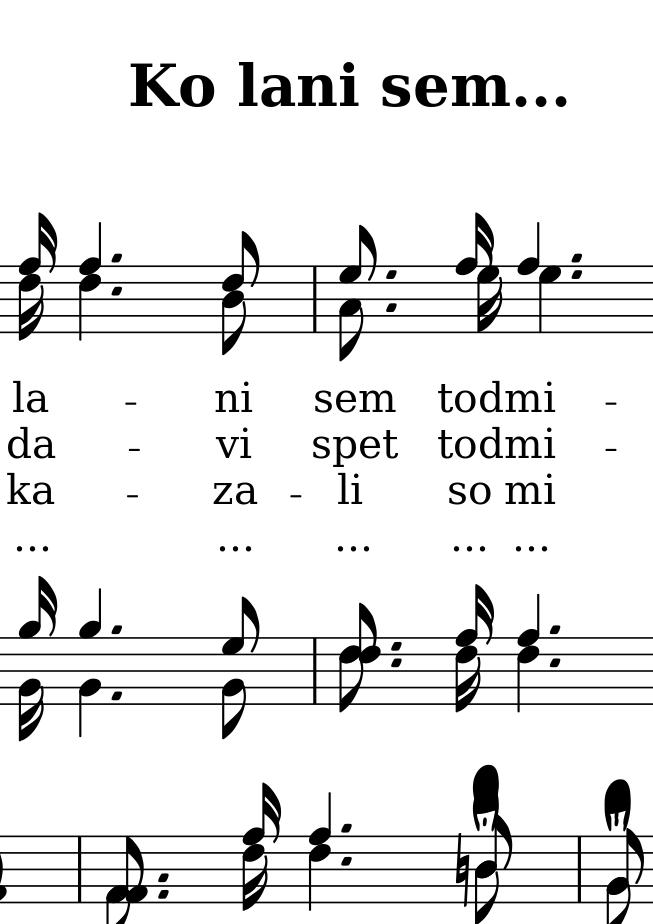16_6_8: (17, 211, 59, 342), (242, 781, 284, 912)
4_6_8: (79, 222, 104, 342), (307, 793, 332, 913)
8_4_6: (221, 232, 262, 355)
Single_barline: (571, 837, 588, 899), (307, 638, 323, 703), (307, 266, 322, 331), (72, 837, 87, 902)
dot: (567, 268, 588, 281), (382, 300, 401, 314), (108, 250, 124, 265), (568, 249, 582, 264), (385, 266, 398, 282), (108, 623, 123, 636), (109, 284, 123, 296)
